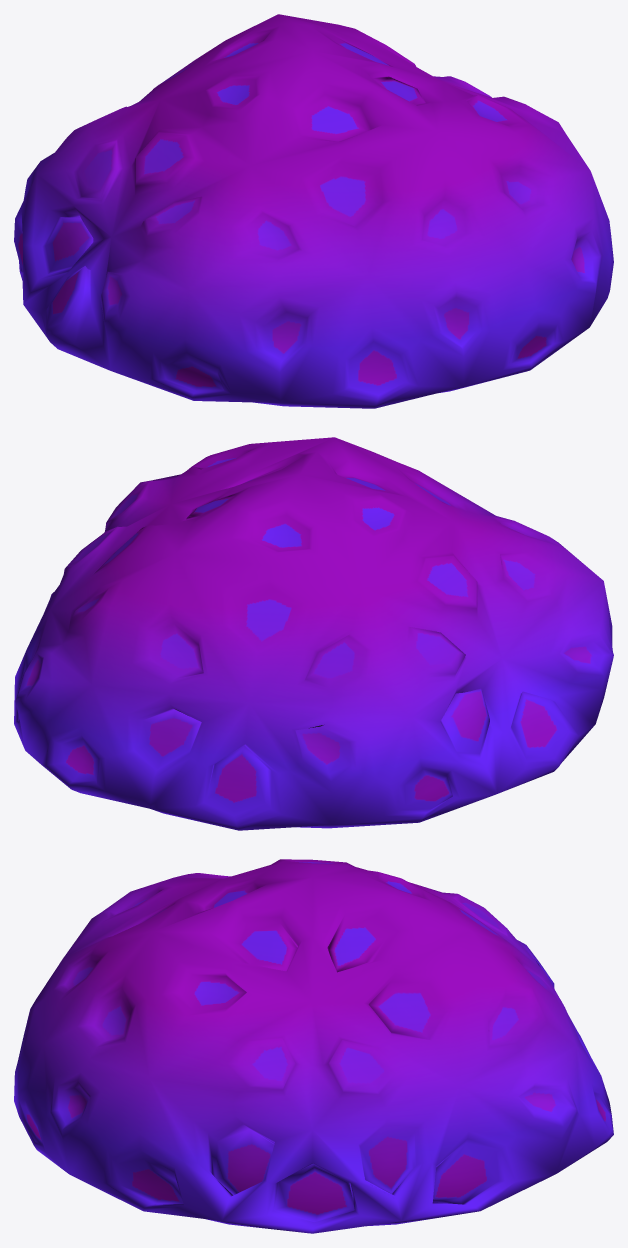
Rendered from Coral_06.fbx.
3 renders of one model, top to bottom at view 1: azimuth 30°, elevation 25°; view 2: azimuth 150°, elevation 25°; view 3: azimuth 270°, elevation 25°, orthographic.
Parts seen in each view (by area): view 1: Coral_06.001; view 2: Coral_06.001; view 3: Coral_06.001.
Part boxes in pixels (x1,y1,x2,y2): Coral_06.001: (14,14,613,408); Coral_06.001: (14,437,613,830); Coral_06.001: (14,859,613,1233).
Size of the model in its own units: 126 by 56.78 by 129.
